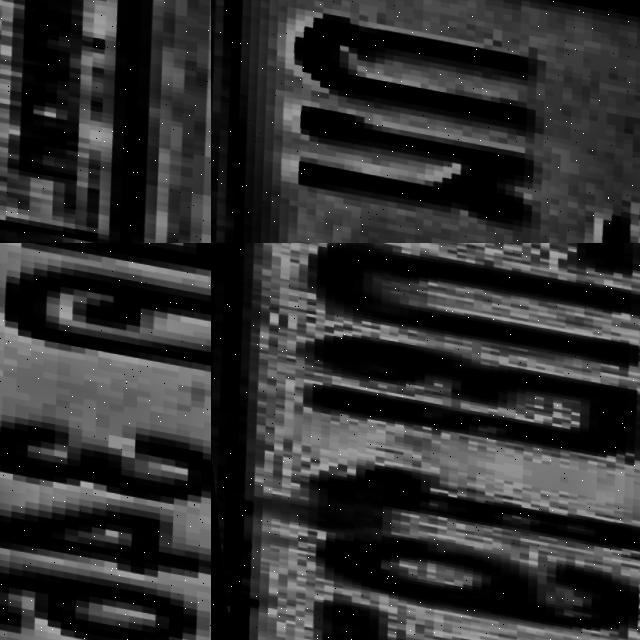license-plate: (211, 243, 640, 640), (211, 0, 640, 243), (0, 243, 211, 640), (0, 0, 178, 243)
